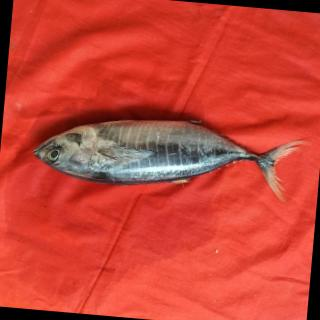Ikan: (24, 101, 310, 225)
